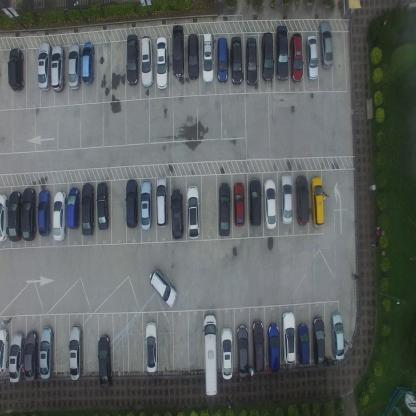car: (202, 313, 218, 397), (148, 267, 178, 308), (68, 324, 83, 382), (96, 334, 112, 388), (8, 330, 24, 383), (185, 184, 200, 240), (294, 174, 310, 226), (281, 311, 296, 365), (21, 187, 36, 241), (275, 26, 289, 83), (6, 48, 24, 92), (81, 180, 95, 236), (329, 312, 345, 361), (262, 179, 277, 231), (250, 319, 264, 374), (318, 20, 333, 71), (170, 187, 184, 241), (140, 35, 154, 89), (144, 320, 158, 374), (171, 25, 185, 78), (312, 315, 326, 368), (40, 326, 54, 379), (279, 174, 293, 226), (310, 175, 324, 227), (24, 330, 38, 382), (236, 324, 249, 379), (220, 326, 233, 381), (202, 32, 215, 86), (126, 33, 139, 86), (245, 36, 258, 89), (125, 177, 138, 229), (248, 176, 261, 228), (230, 35, 243, 87), (261, 31, 274, 83), (290, 33, 303, 85), (267, 322, 280, 374), (8, 190, 21, 242), (38, 40, 51, 92), (218, 183, 230, 239), (68, 42, 82, 90), (156, 35, 168, 91), (51, 44, 65, 92), (53, 190, 66, 241), (96, 180, 109, 230), (38, 187, 51, 236), (155, 176, 167, 228), (140, 178, 152, 230), (187, 33, 200, 81), (66, 185, 80, 229), (296, 322, 310, 366), (305, 35, 318, 82), (82, 39, 95, 85), (216, 36, 228, 84), (233, 181, 245, 227), (0, 192, 8, 244), (0, 326, 8, 375)
